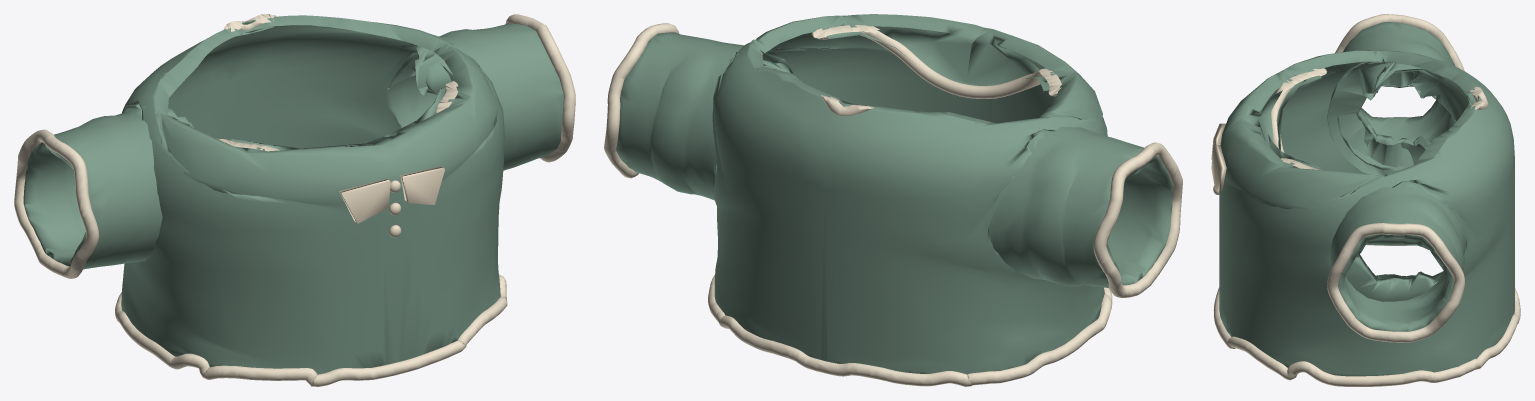
The model's file is 2HT-masculino.glb.
3 renders of one model, left to right at view 1: azimuth 30°, elevation 25°; view 2: azimuth 150°, elevation 25°; view 3: azimuth 270°, elevation 25°, orthographic. The views are drawn at different scales.
Visible parts, largest first — view 1: fitted-shell, bound-edge (×4), collar--1, collar-1; view 2: fitted-shell, bound-edge (×4); view 3: fitted-shell, bound-edge (×4), collar-1.
Part boxes in pixels (box(x1,y1,x2,y2)): fitted-shell: box(23, 15, 563, 374); bound-edge (×4): box(14, 14, 575, 386); collar--1: box(339, 178, 390, 223); collar-1: box(400, 166, 444, 204); fitted-shell: box(616, 14, 1173, 374); bound-edge (×4): box(604, 23, 1182, 386); fitted-shell: box(1219, 22, 1514, 376); bound-edge (×4): box(1213, 14, 1520, 386); collar-1: box(1211, 145, 1226, 190).
Bounding box in the file's own units: 0.0586 × 0.0281 × 0.0356.
